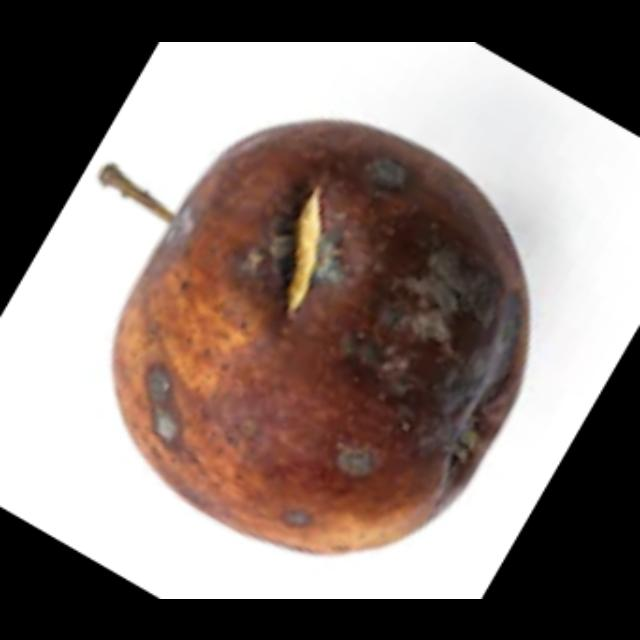Apel Tidak Segar: (9, 70, 621, 598)
